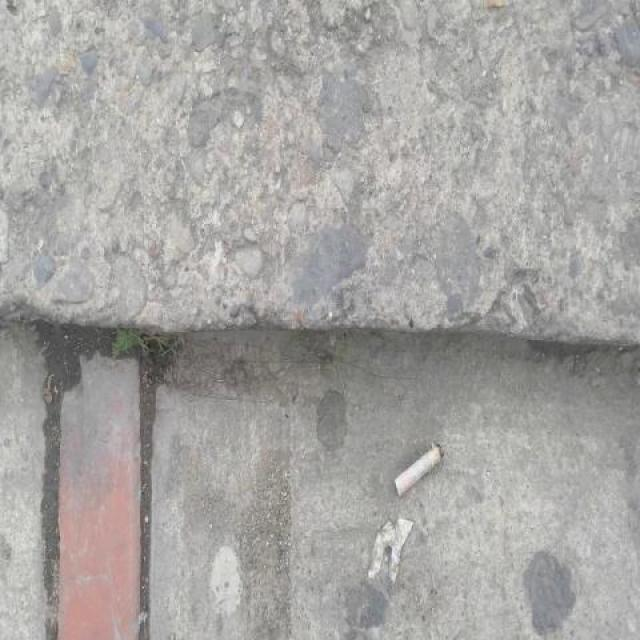non-organic waste: (392, 438, 448, 498)
